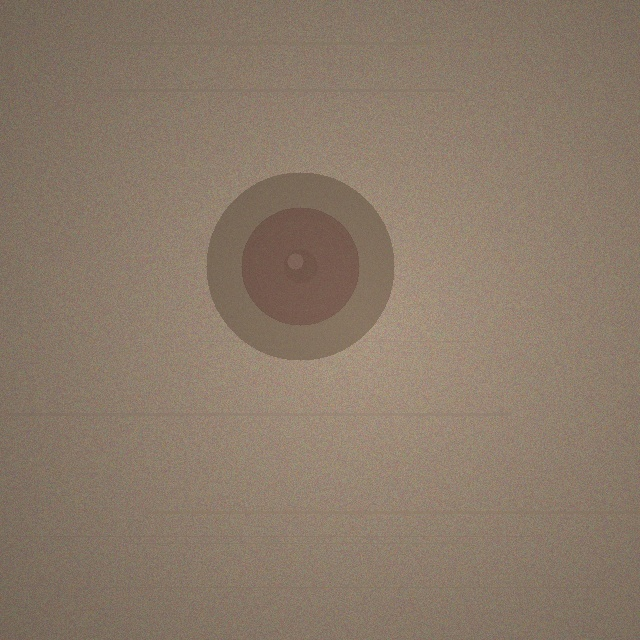good: (206, 172, 394, 360)
